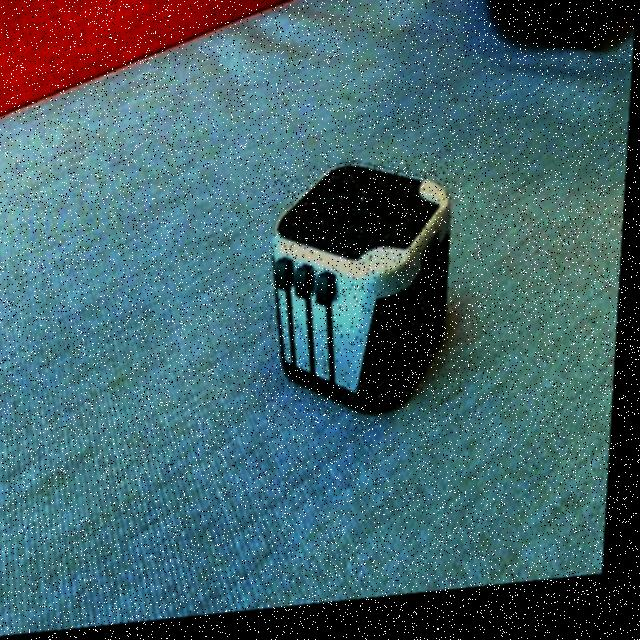adapter: (265, 159, 460, 431)
